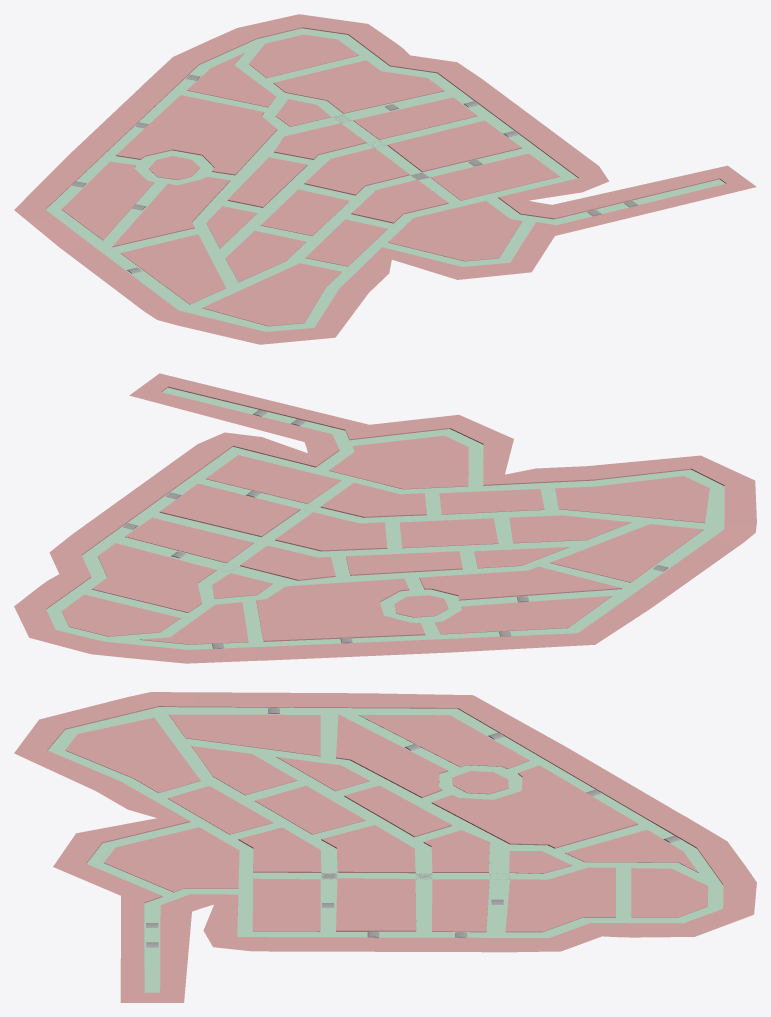
The model's file is Routes_v2.fbx.
The picture shows the model from 3 angles, top to bottom: view 1: azimuth 30°, elevation 25°; view 2: azimuth 150°, elevation 25°; view 3: azimuth 270°, elevation 25°; orthographic projection. The views are drawn at different scales.
Parts seen in each view (by area): view 1: pPlane55; view 2: pPlane55; view 3: pPlane55.
Boxes of the visible parts, x1,y1,x2,y2 form: pPlane55: (14, 14, 756, 344); pPlane55: (14, 373, 756, 663); pPlane55: (14, 692, 756, 1002).
Size of the model in its own units: 183 by 0.3075 by 184.
